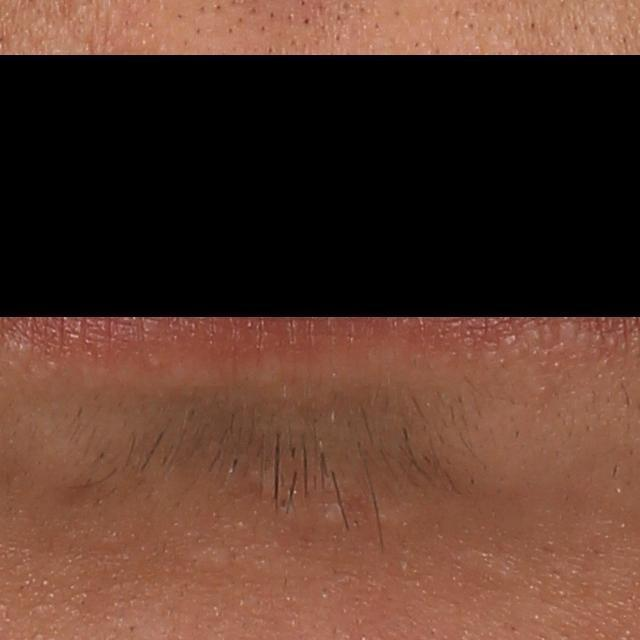hypertrophic_scar: (184, 546, 231, 572), (319, 500, 349, 530)
